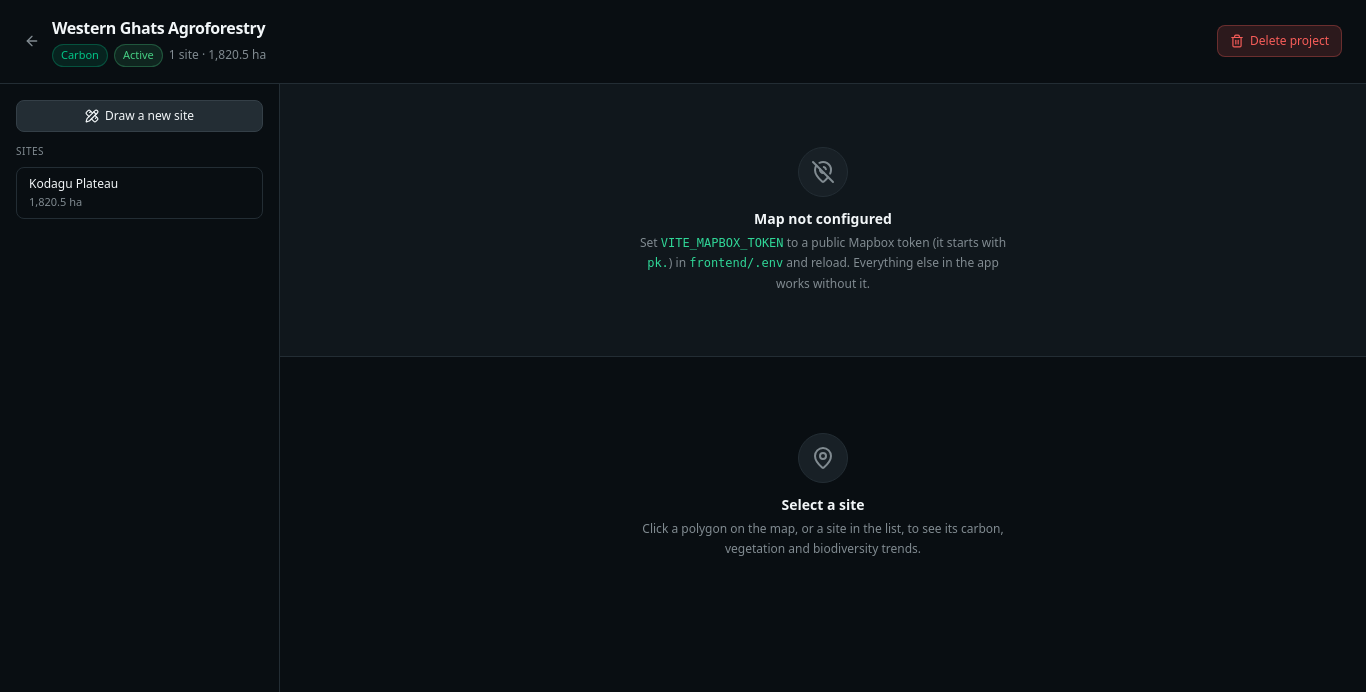
ProjectDetailPage › loads analytics when a site is selected from the list
Click the button "Kodagu Plateau 1,820.5 ha": [140, 193] box [16,166,263,219]
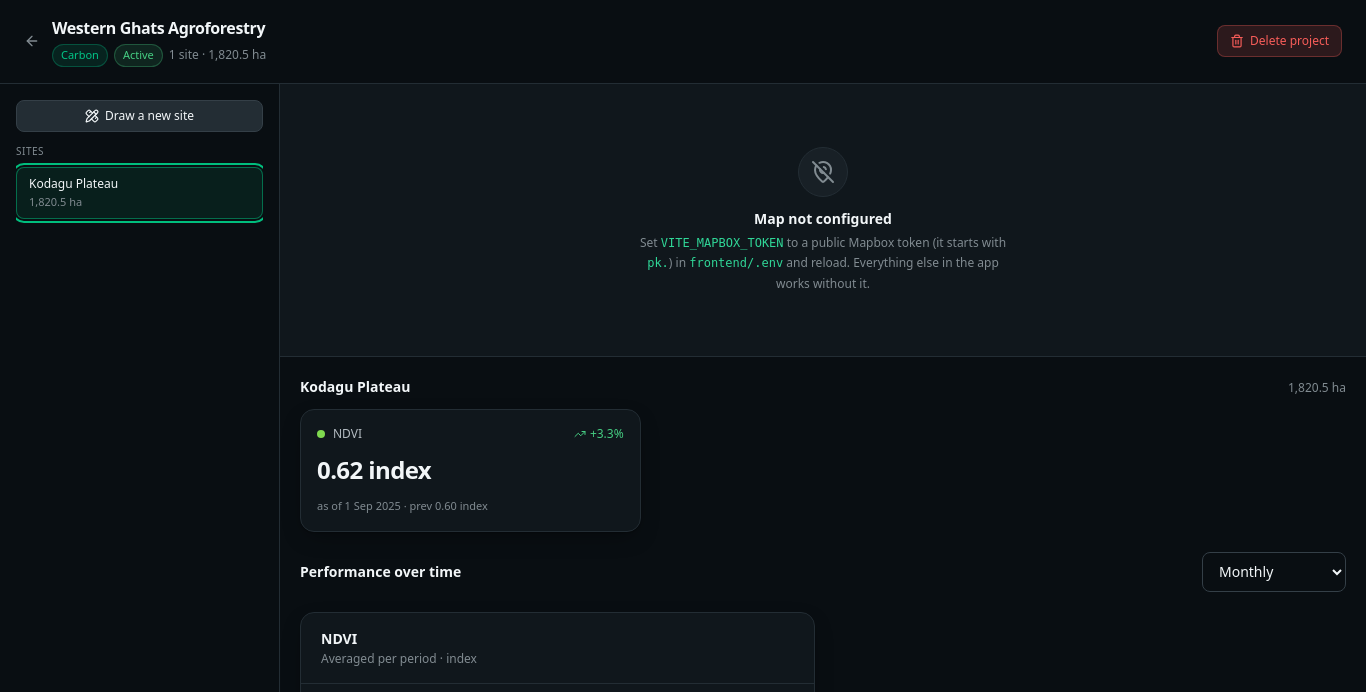
Result: the heading "Performance over time" is shown at [300,562,461,582]
